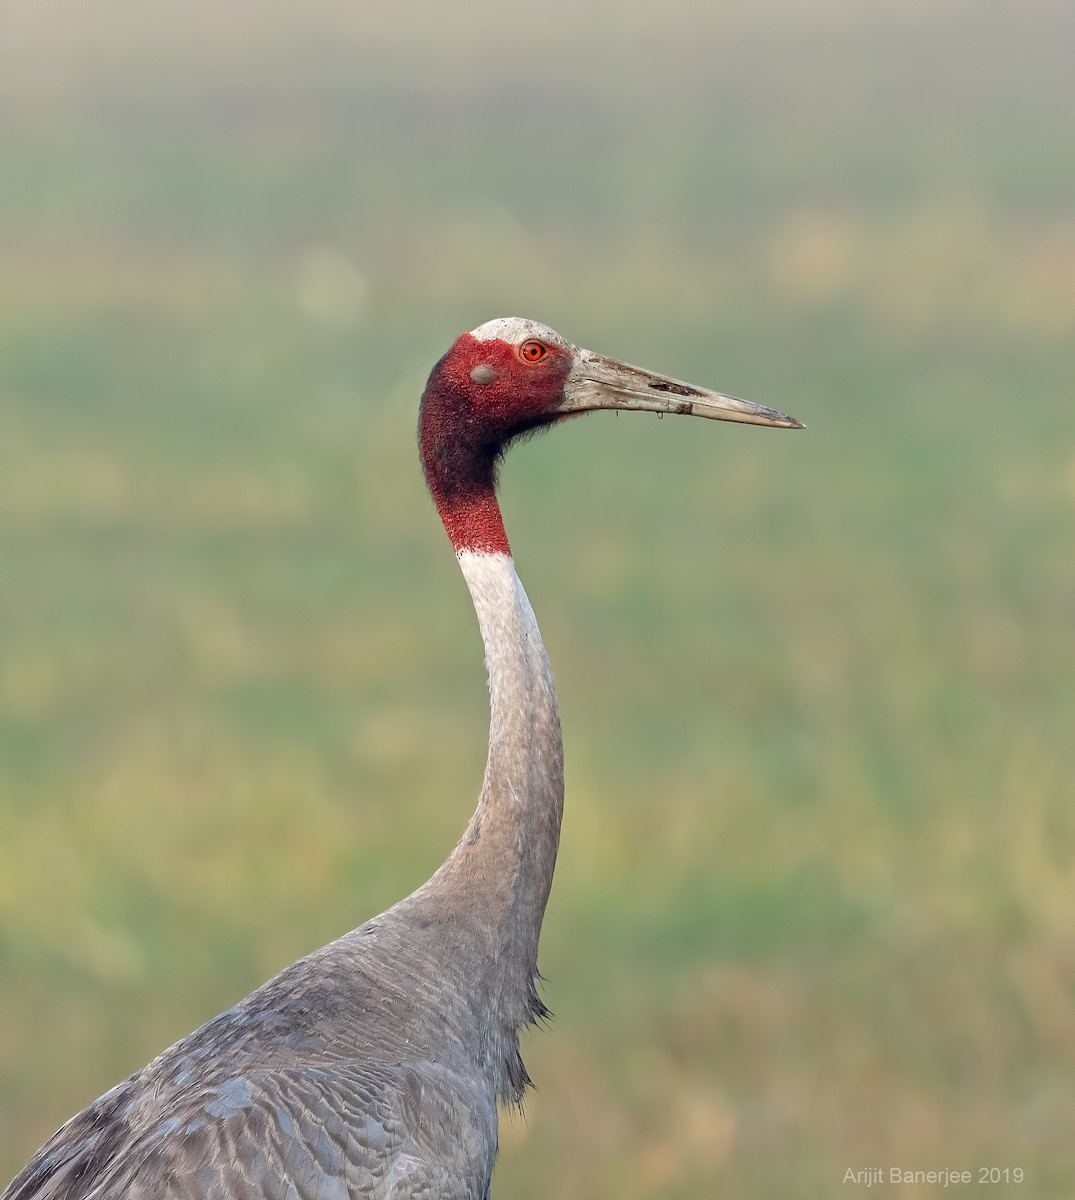crane: (73, 310, 815, 1200)
